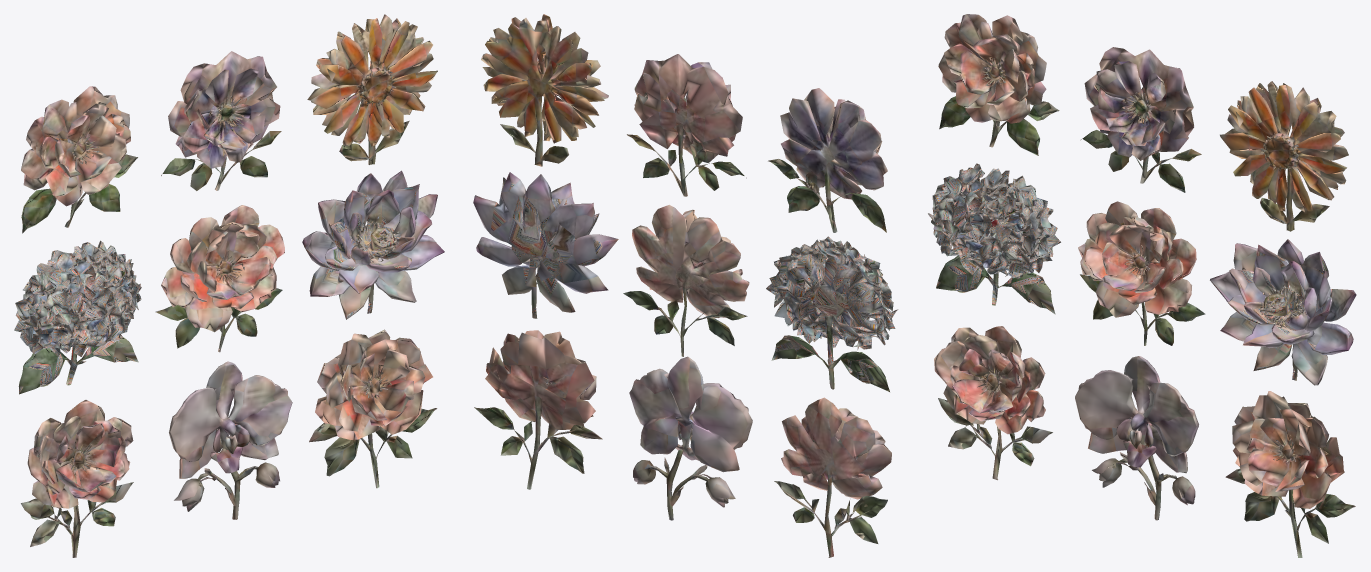
3 renders of one model, left to right at view 1: azimuth 30°, elevation 25°; view 2: azimuth 150°, elevation 25°; view 3: azimuth 330°, elevation 25°, orthographic.
Parts seen in each view (by area): view 1: Mesh 1, Mesh 11, Mesh 12, Mesh 4, Mesh 13, Mesh 6, Mesh 3, Mesh 5, Mesh 2; view 2: Mesh 1, Mesh 11, Mesh 12, Mesh 6, Mesh 13, Mesh 4, Mesh 3, Mesh 5, Mesh 2; view 3: Mesh 1, Mesh 11, Mesh 12, Mesh 13, Mesh 4, Mesh 6, Mesh 3, Mesh 5, Mesh 2.
Boxes of the visible parts, left/top/right/bottom form: Mesh 1: left=14, top=240, right=141, bottom=394; Mesh 11: left=302, top=170, right=444, bottom=319; Mesh 12: left=307, top=14, right=437, bottom=164; Mesh 4: left=155, top=205, right=284, bottom=352; Mesh 13: left=309, top=329, right=437, bottom=488; Mesh 6: left=169, top=361, right=292, bottom=519; Mesh 3: left=21, top=86, right=137, bottom=233; Mesh 5: left=161, top=51, right=281, bottom=190; Mesh 2: left=21, top=400, right=133, bottom=557; Mesh 1: left=766, top=236, right=898, bottom=391; Mesh 11: left=473, top=172, right=618, bottom=318; Mesh 12: left=481, top=14, right=608, bottom=166; Mesh 6: left=629, top=356, right=752, bottom=520; Mesh 13: left=474, top=330, right=602, bottom=489; Mesh 4: left=623, top=204, right=749, bottom=356; Mesh 3: left=768, top=88, right=887, bottom=232; Mesh 5: left=627, top=54, right=746, bottom=196; Mesh 2: left=774, top=397, right=891, bottom=557; Mesh 1: left=928, top=163, right=1060, bottom=314; Mesh 11: left=1210, top=239, right=1356, bottom=385; Mesh 12: left=1220, top=81, right=1348, bottom=231; Mesh 13: left=1225, top=391, right=1355, bottom=557; Mesh 4: left=1078, top=201, right=1205, bottom=345; Mesh 6: left=1075, top=356, right=1198, bottom=520; Mesh 3: left=938, top=14, right=1059, bottom=155; Mesh 5: left=1080, top=47, right=1201, bottom=192; Mesh 2: left=934, top=326, right=1052, bottom=480.
Bounding box in the file's own units: 1.77 × 1.9 × 0.1967.
9 materials, 9 textured.
